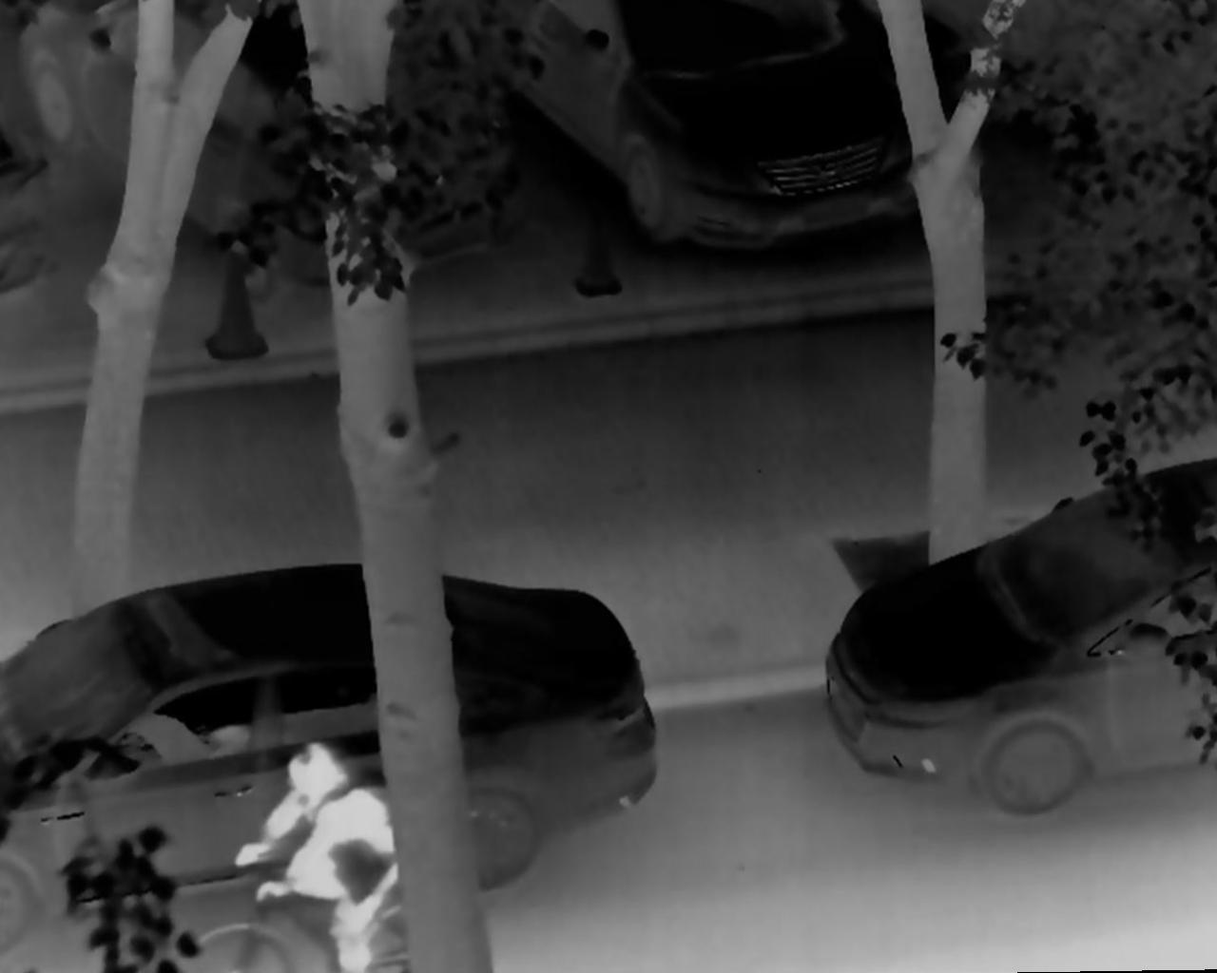person: (231, 739, 414, 973)
